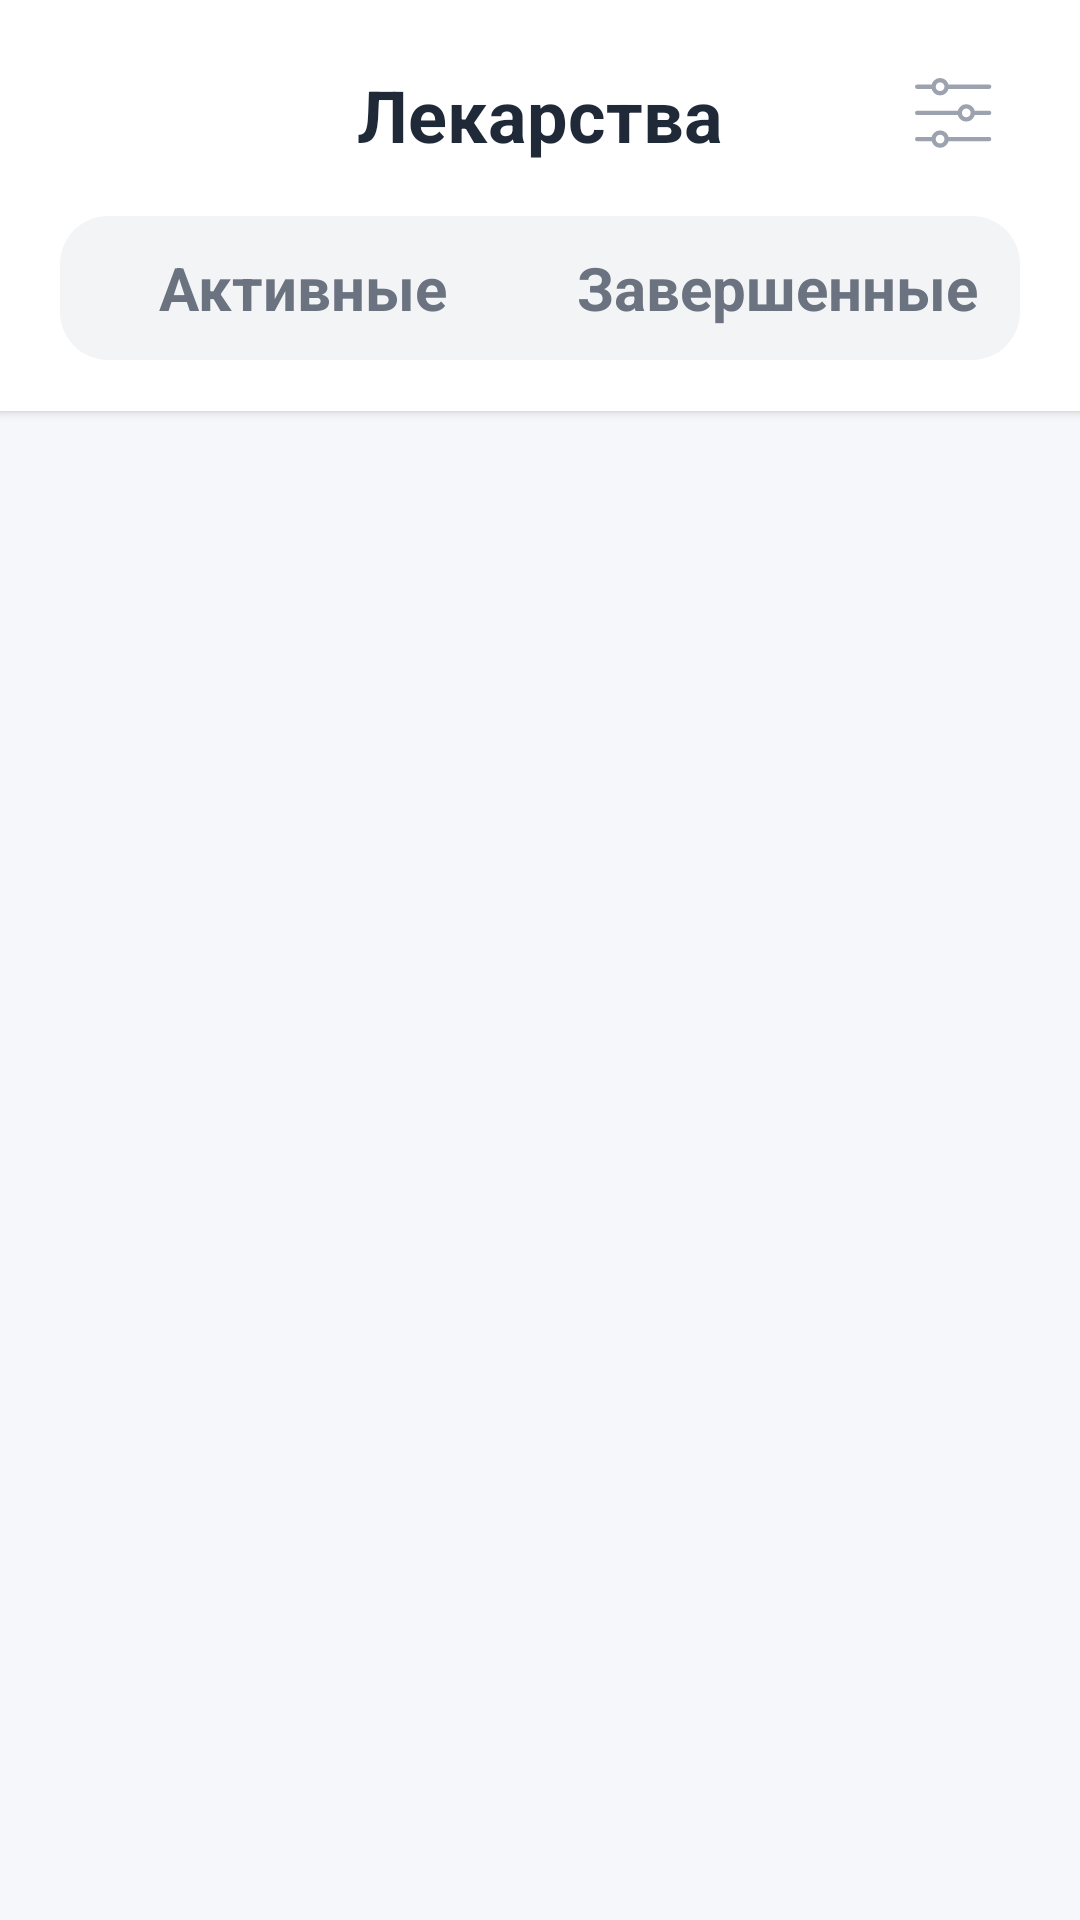

Screen size 1080*1920. Icon name, then its box in pixels as (x1, y1, x2, y2):
Фильтр: (915, 78, 992, 148)
